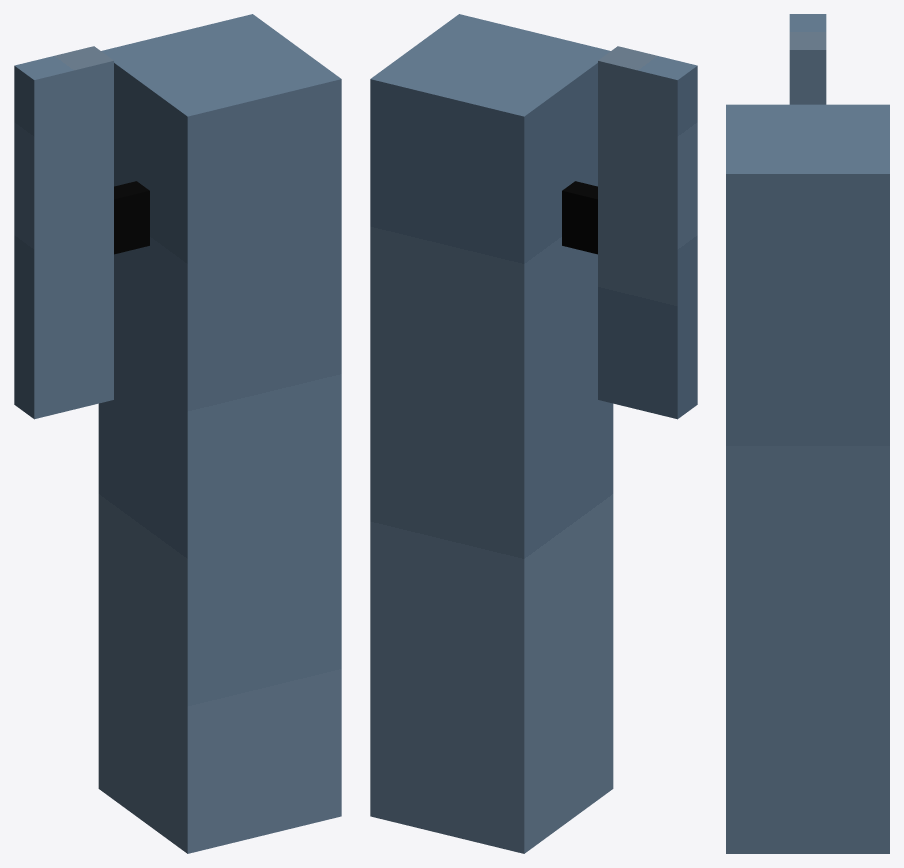
File: hihat_knob.fbx
3 views of the same model, side by side, from view 1: azimuth 30°, elevation 25°; view 2: azimuth 150°, elevation 25°; view 3: azimuth 270°, elevation 25° (orthographic). The views are drawn at different scales.
Visible parts, largest first — view 1: Cube; view 2: Cube; view 3: Cube.
Boxes of the visible parts, bbox=[...] form: Cube: bbox=[14, 14, 341, 853]; Cube: bbox=[370, 14, 697, 853]; Cube: bbox=[726, 14, 889, 853].
Size of the model in its own units: 6.07 by 3.42 by 16.51.
1 material, 1 textured.
